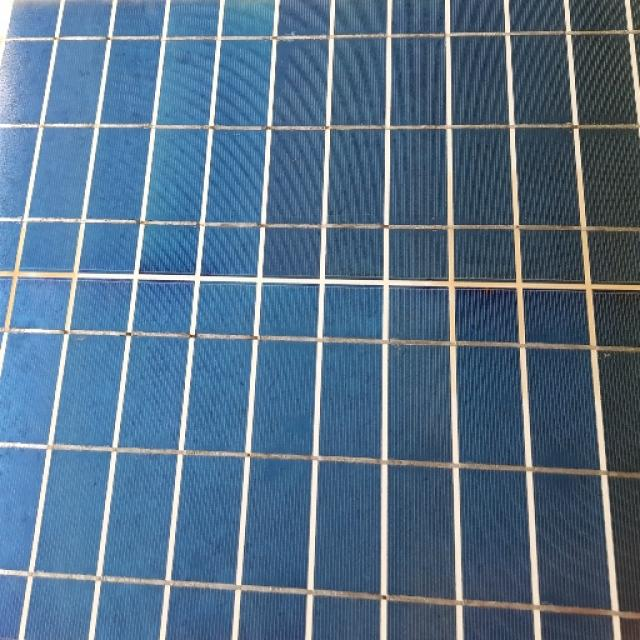Clean: (3, 32, 640, 640)
